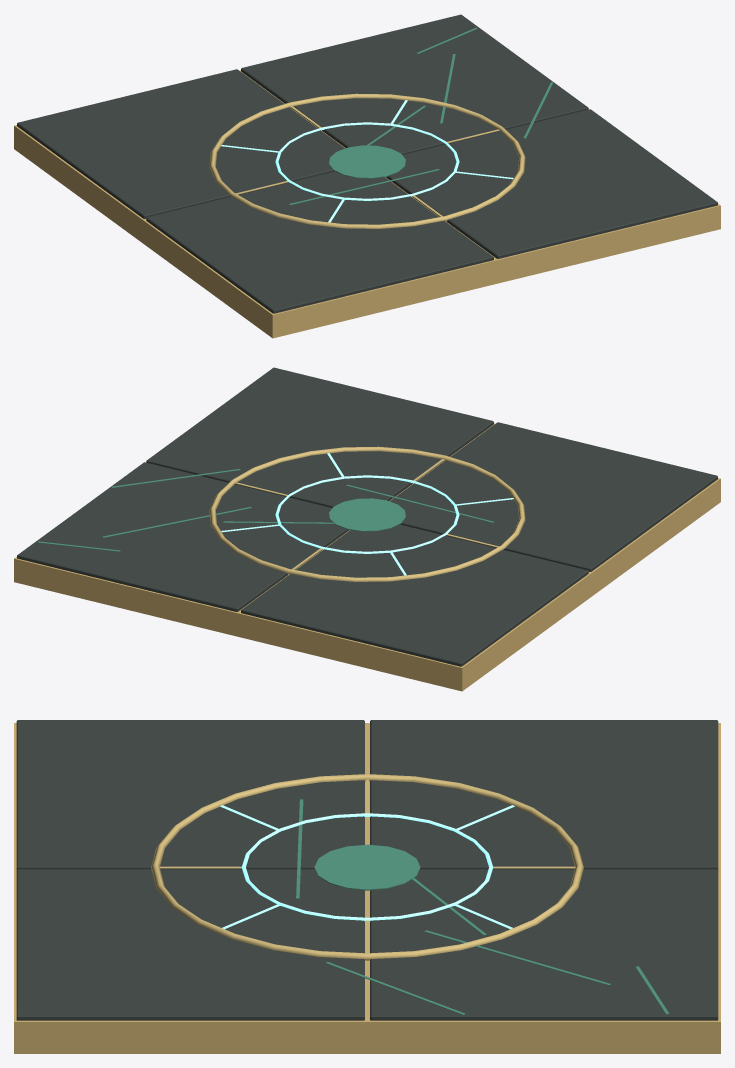
File: floor_ex_inlay.glb
The picture shows the model from 3 angles, top to bottom: view 1: azimuth 30°, elevation 25°; view 2: azimuth 150°, elevation 25°; view 3: azimuth 270°, elevation 25°; orthographic projection. The views are drawn at different scales.
Visible parts, largest first — view 1: floor_ex_inlay; view 2: floor_ex_inlay; view 3: floor_ex_inlay.
Part boxes in pixels (x1,y1,x2,y2): floor_ex_inlay: (14,14,720,338); floor_ex_inlay: (14,367,720,691); floor_ex_inlay: (14,720,720,1053).
Bounding box in the file's own units: 4 × 0.255 × 4.
